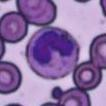N: (26, 26, 80, 80)
